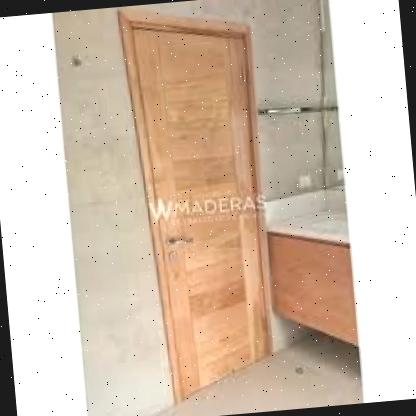door: (113, 0, 286, 402)
